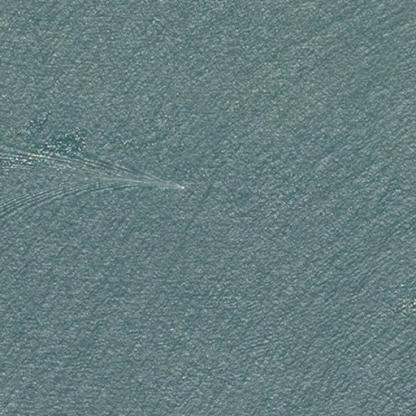ship: (6, 0, 20, 8)
